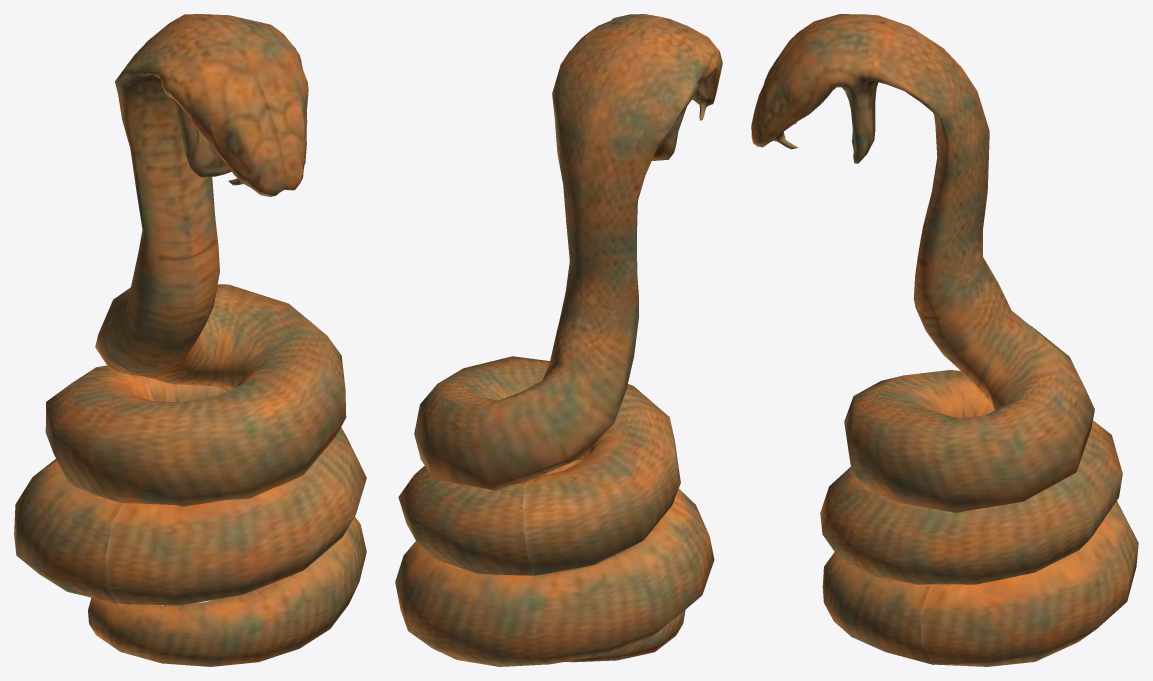
The model's file is t4_statue_snake.glb.
The picture shows the model from 3 angles, left to right: view 1: azimuth 30°, elevation 25°; view 2: azimuth 150°, elevation 25°; view 3: azimuth 270°, elevation 25°; orthographic projection. The views are drawn at different scales.
Parts seen in each view (by area): view 1: env_desert_underworld_statues_02a; view 2: env_desert_underworld_statues_02a; view 3: env_desert_underworld_statues_02a.
Boxes of the visible parts, left/top/right/bottom form: env_desert_underworld_statues_02a: left=14, top=14, right=366, bottom=666; env_desert_underworld_statues_02a: left=395, top=14, right=722, bottom=666; env_desert_underworld_statues_02a: left=751, top=14, right=1138, bottom=666.
Bounding box in the file's own units: 2.87 × 5.75 × 3.48.
Materials: 1 (1 with a texture image).
